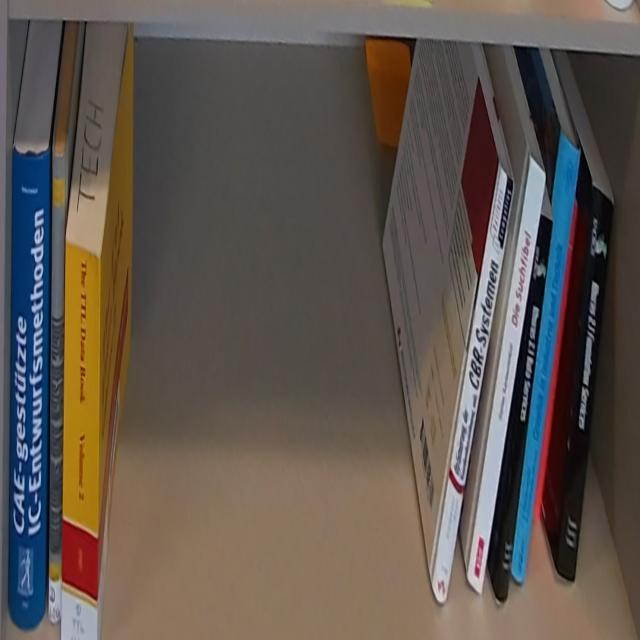Book Spine: (428, 154, 517, 609), (465, 154, 549, 599), (512, 133, 583, 594), (554, 180, 617, 594), (493, 203, 552, 613), (7, 138, 49, 639), (533, 197, 582, 524), (63, 241, 101, 640), (48, 142, 67, 629)
